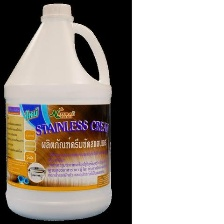cleaning_solution: (1, 2, 114, 224)
